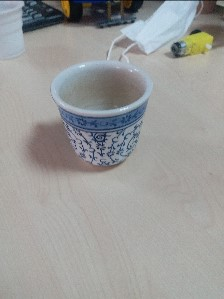cup: (51, 60, 154, 169)
